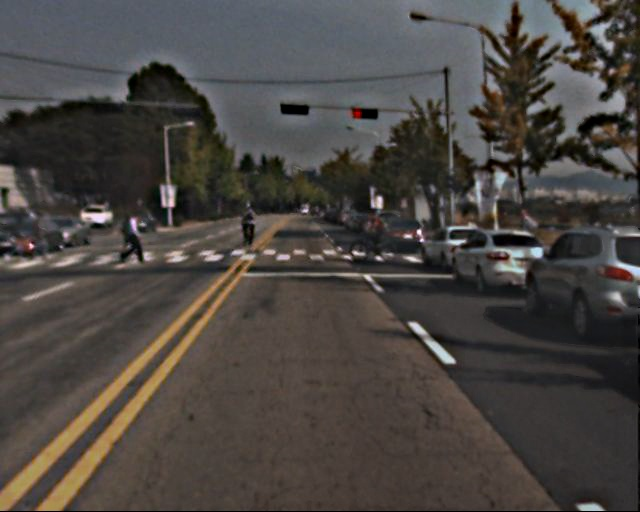person: (15, 210, 48, 258), (124, 211, 147, 268), (365, 208, 387, 261), (240, 201, 261, 251)
